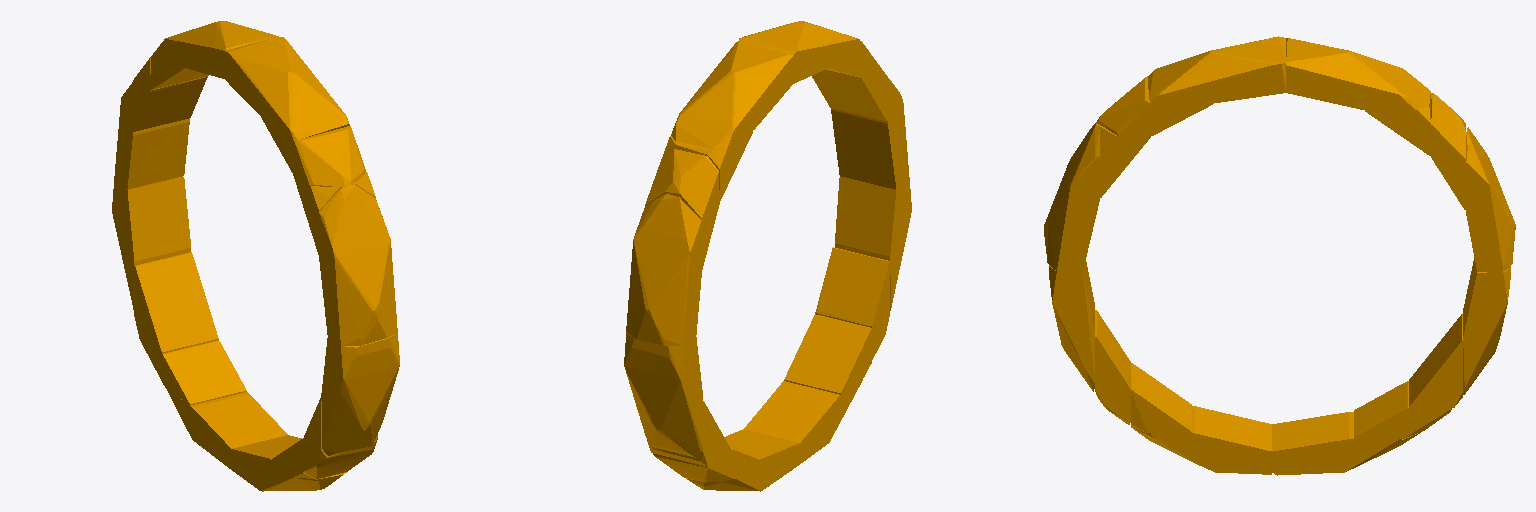
URDF robot description (donut):
<?xml version="1.0"?>
<robot name="donut">

  <link name="base_link">
    <visual>
      <geometry>
        <mesh filename="package://fish/ring2_vhacd.dae" scale=".1 .1 .1"/>
      </geometry>
    </visual>
    <collision>
      <geometry>
        <mesh filename="package://fish/ring2_vhacd.OBJ" scale=".1 .1 .1" />
      </geometry>
    </collision>
  </link>

</robot>

--- What the picture shows (computed from the rendered views, not written in the file) ---
3 views of the same robot in one strip: view 1: azimuth 30°, elevation 25°; view 2: azimuth 150°, elevation 25°; view 3: azimuth 270°, elevation 25° (orthographic).
Robot: donut — 1 links, 0 joints (none); root link base_link; default pose: all joints at 0.
Visible links, largest first — view 1: base_link; view 2: base_link; view 3: base_link.
Boxes of the visible links, left/top/right/bottom form: base_link: left=112, top=21, right=399, bottom=491; base_link: left=624, top=21, right=911, bottom=491; base_link: left=1044, top=36, right=1515, bottom=475.
Size in the robot's own frame: 0.3094 by 2.25 by 2.24 metres.
1 mesh visuals loaded from 1 distinct referenced files (1 Collada DAE).